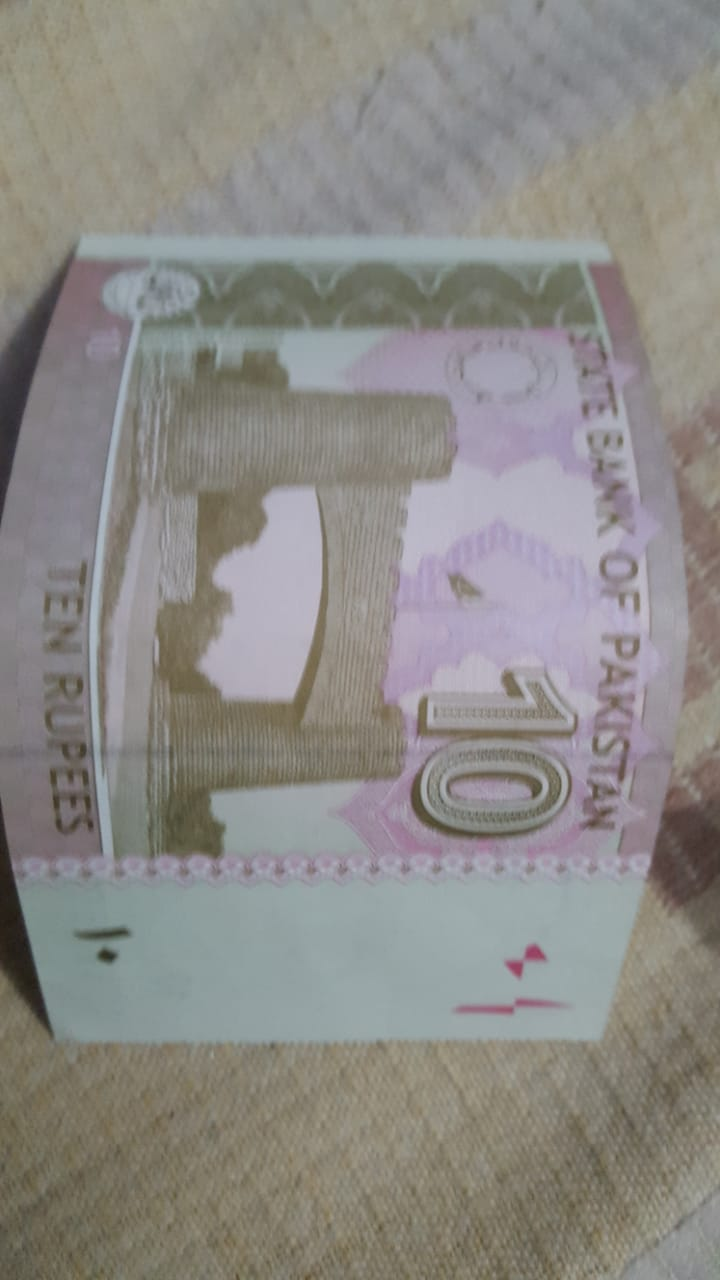10 rupee: (6, 210, 684, 1098)
